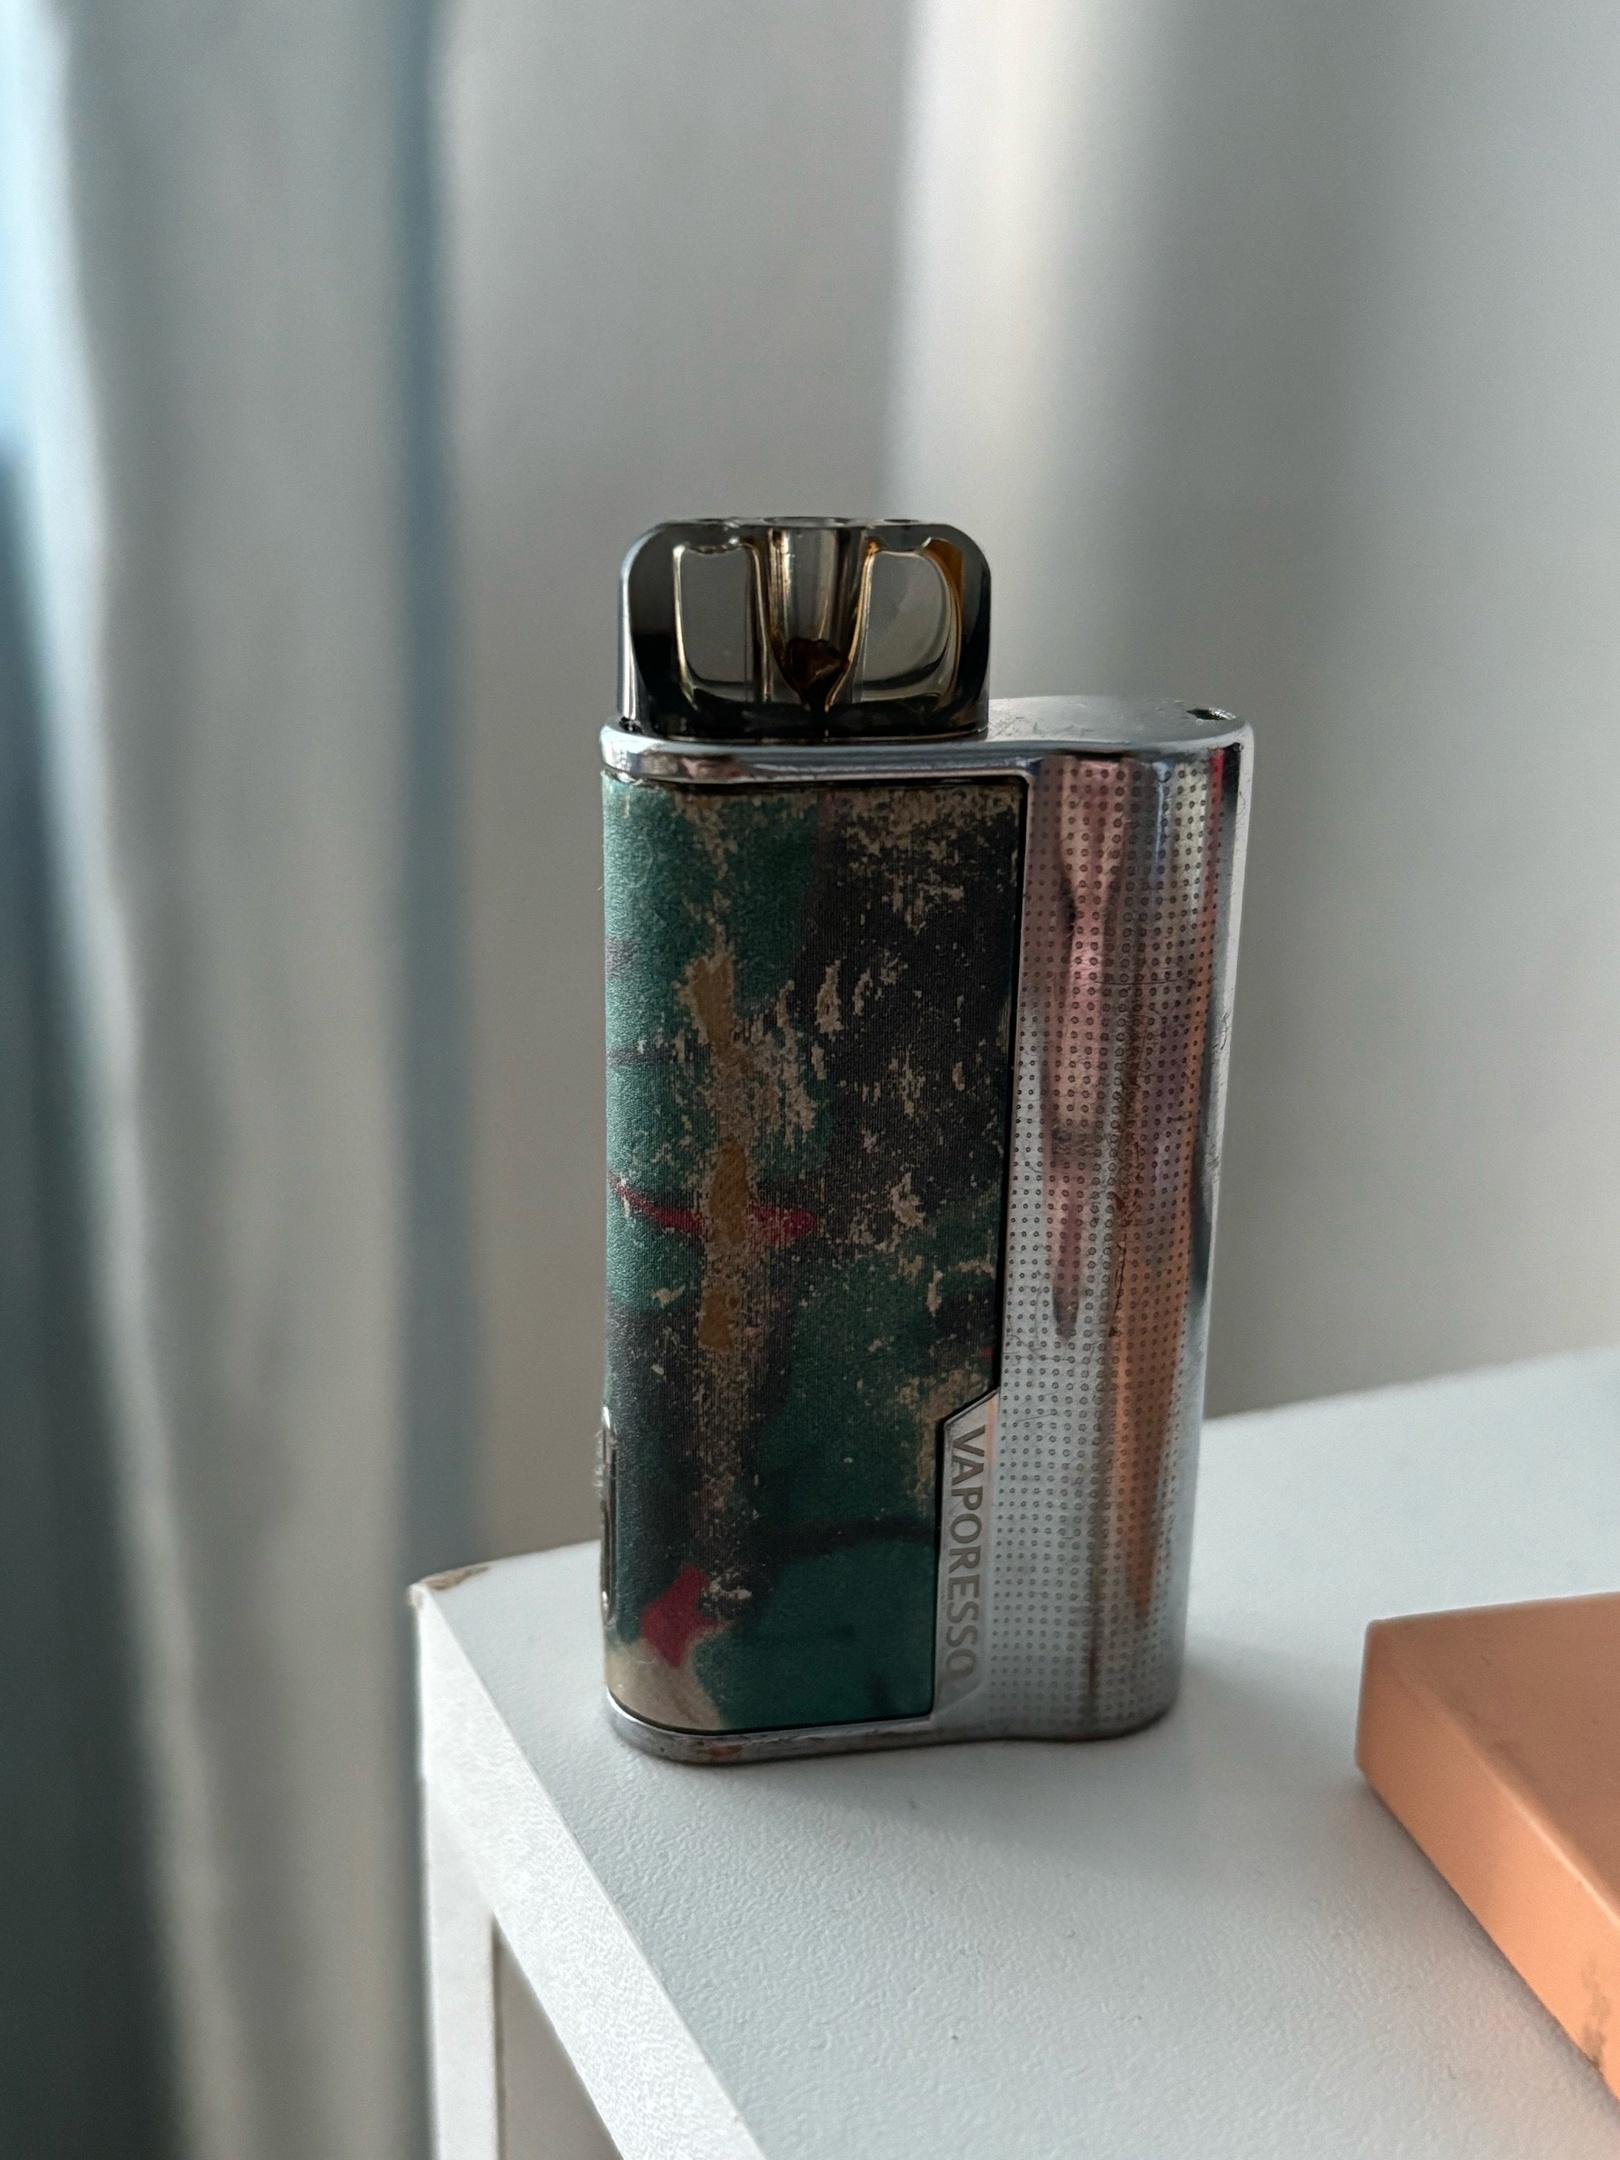Vape: (601, 519, 1251, 1764)
